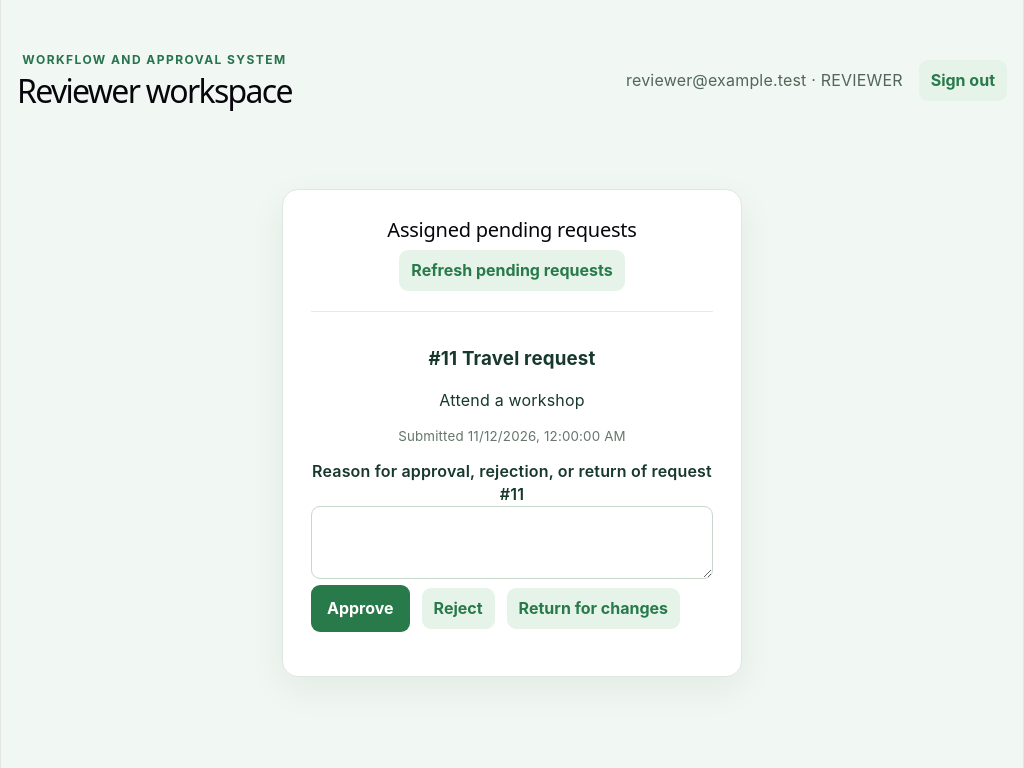
Test: F-03 Reviewer workspace through the application › TEST-F03-UI-08: distinguishes a saved decision from a failed list refresh
This screenshot has width=1024, height=768.
Type "Approved within budget" into the text box labelled "Reason for approval, rejection, or return of request #11" at (512, 543), box [311,506,713,579]
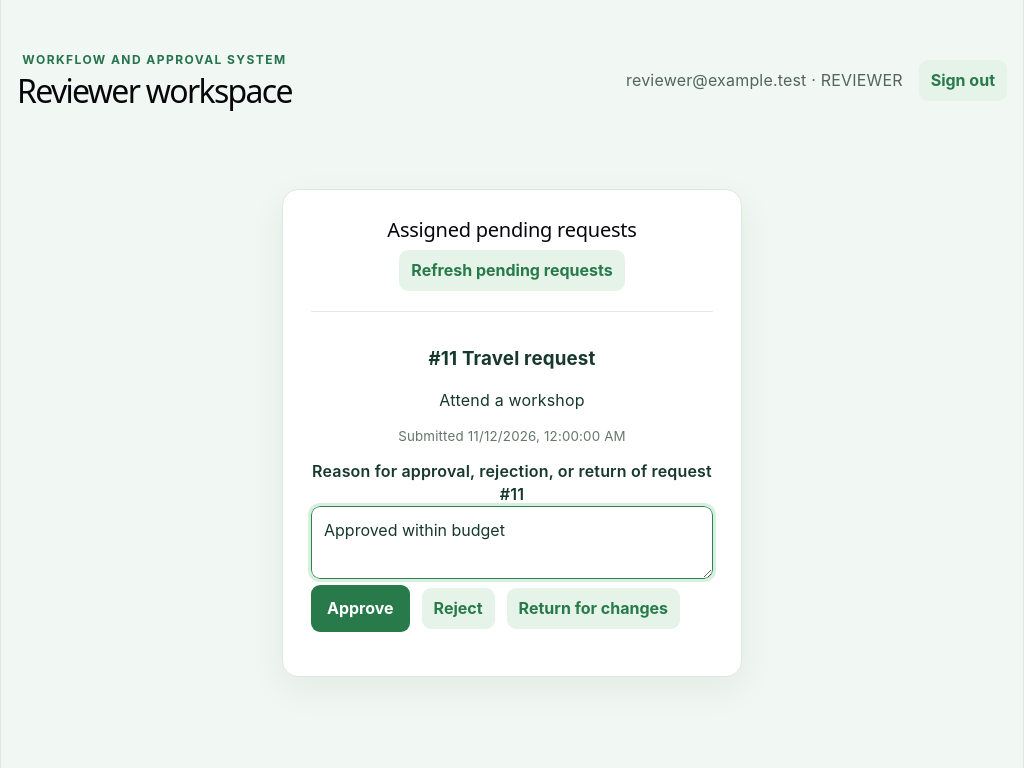
Click the button with aria-label "Approve request #11" at (360, 609), box [311,585,410,632]
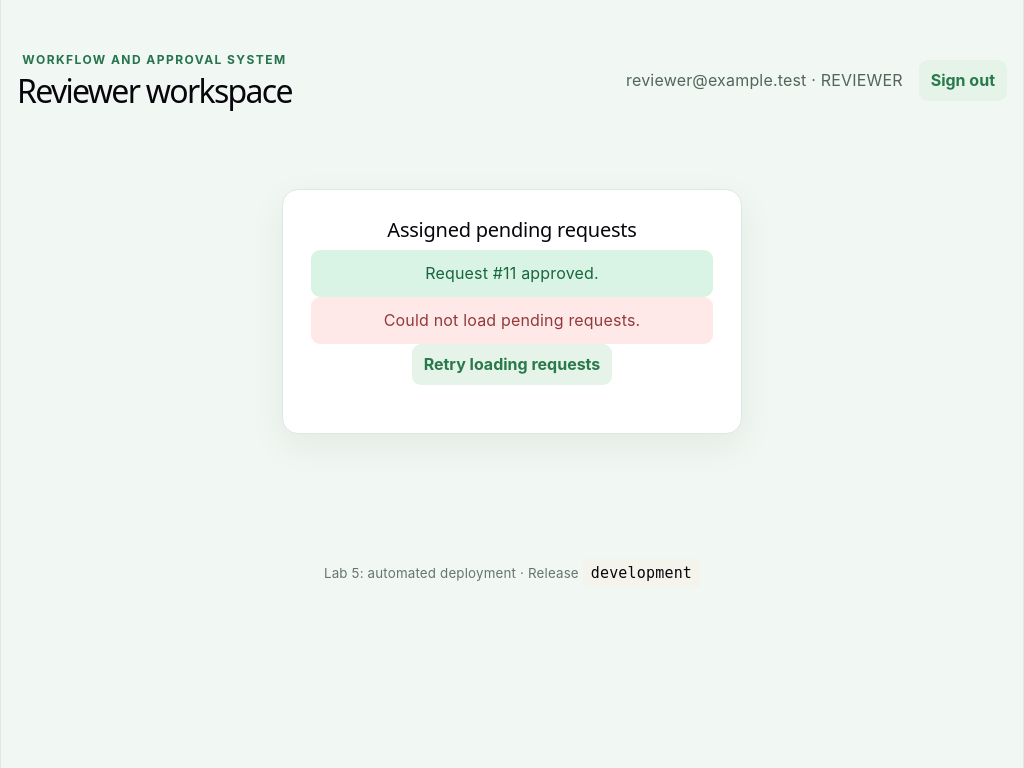
Expected: the text "Request #11 approved." is shown, [311,250,713,297]
Expected: the message "Could not load pending requests." is shown, [311,297,713,344]
